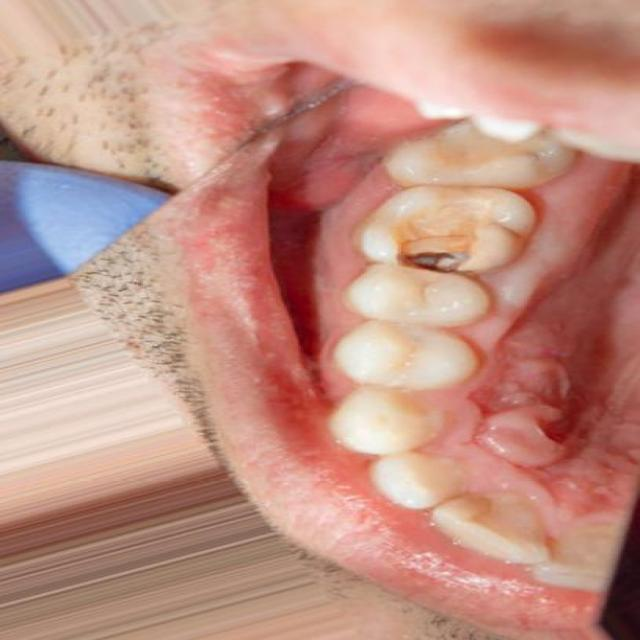caries: (354, 184, 533, 278)
